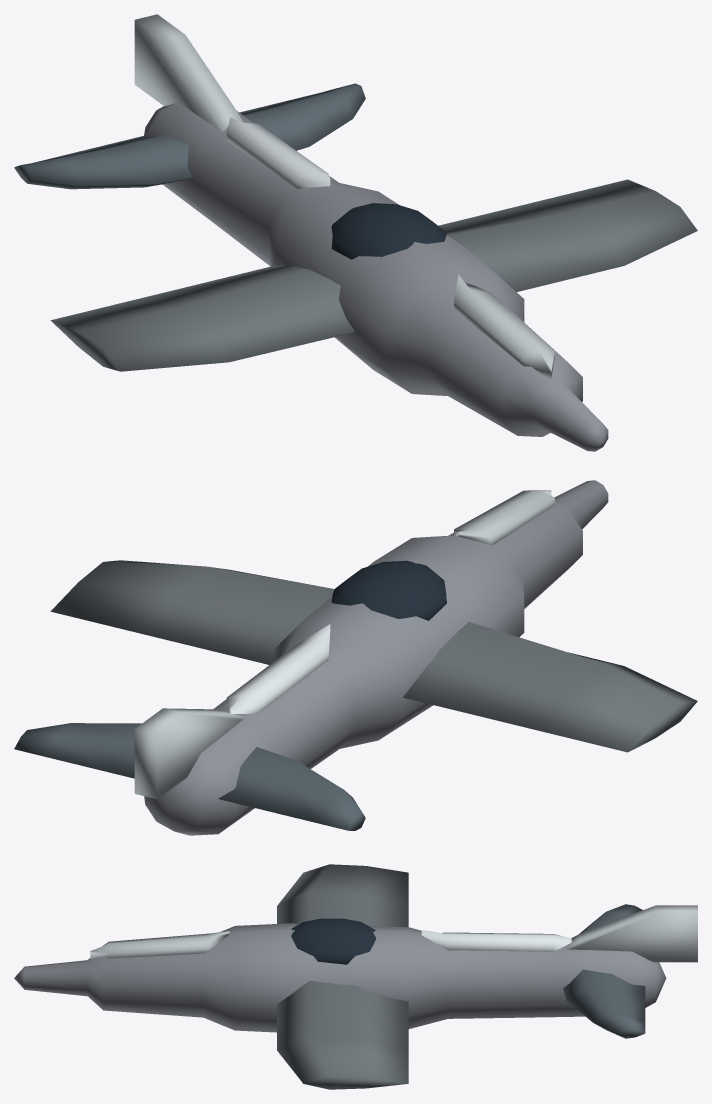
File: newshf-77-f2.glb
3 views of the same model, one above another, from view 1: azimuth 30°, elevation 25°; view 2: azimuth 150°, elevation 25°; view 3: azimuth 270°, elevation 25° (orthographic). The views are drawn at different scales.
Visible parts, largest first — view 1: newshf-77; view 2: newshf-77; view 3: newshf-77.
Part boxes in pixels (<box>): newshf-77: <box>14,14,697,451</box>; newshf-77: <box>14,480,697,835</box>; newshf-77: <box>14,864,697,1089</box>.
Size of the model in its own units: 1.58 by 0.4067 by 2.17.
